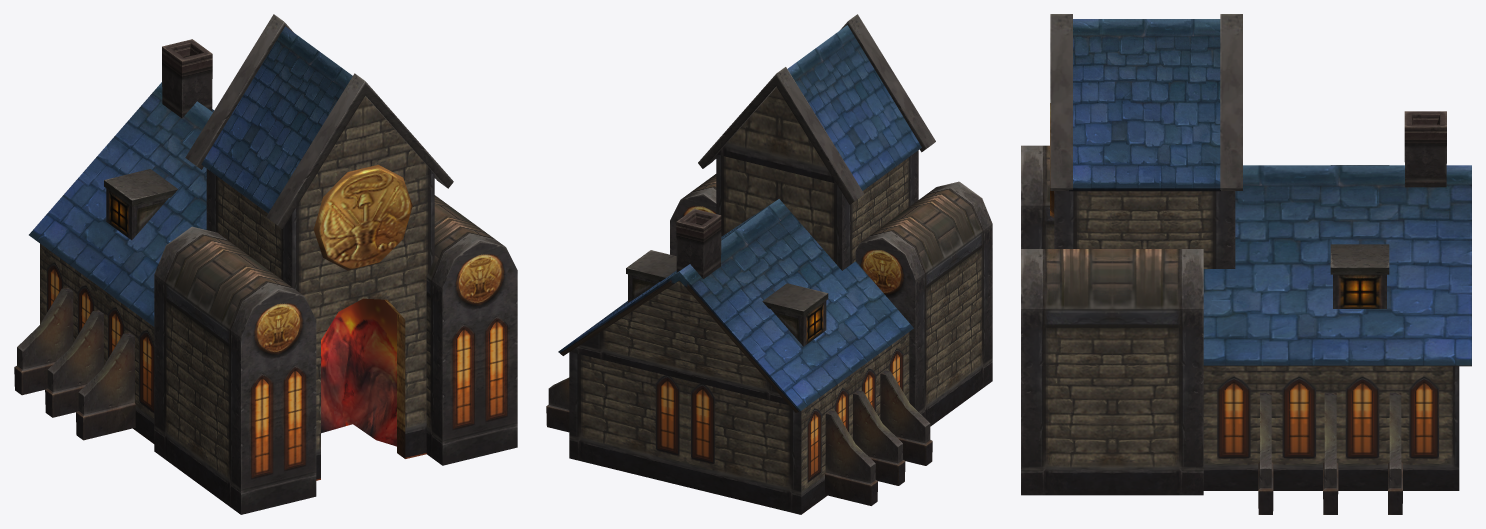
The model's file is Mint_Level03.FBX.
The picture shows the model from 3 angles, left to right: view 1: azimuth 30°, elevation 25°; view 2: azimuth 150°, elevation 25°; view 3: azimuth 270°, elevation 25°; orthographic projection. The views are drawn at different scales.
Parts seen in each view (by area): view 1: Mint_Level03; view 2: Mint_Level03; view 3: Mint_Level03.
Part boxes in pixels (x1=…): Mint_Level03: x1=14, y1=14, x2=517, y2=514; Mint_Level03: x1=546, y1=14, x2=992, y2=514; Mint_Level03: x1=1021, y1=14, x2=1471, y2=514.
Bounding box in the file's own units: 483 × 491 × 489.
